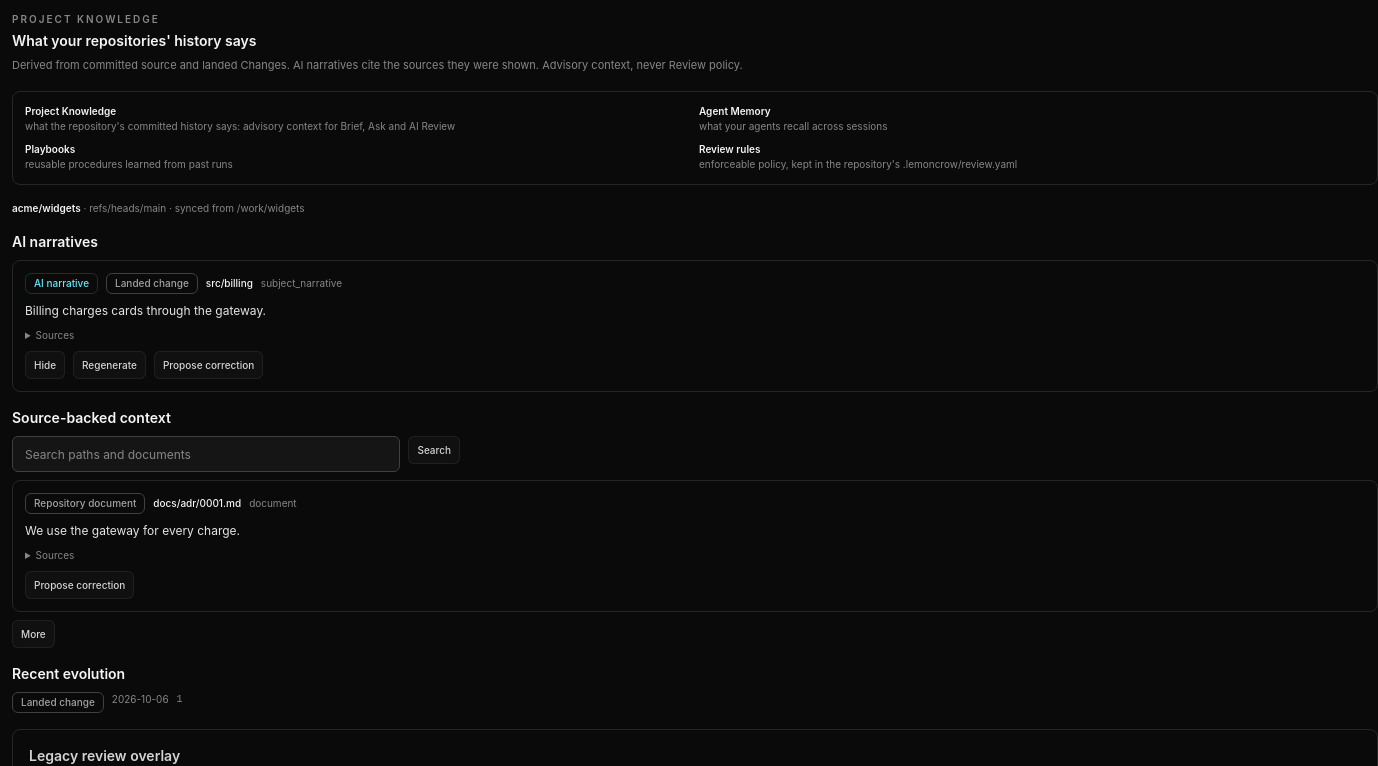
it: ProjectKnowledge › hides a narrative, refreshes, and offers a fresh one
Expected: the text "Billing charges cards through the gateway." is shown, [25,303,266,318]
Click the button "Hide": (45, 365) [25,351,65,379]
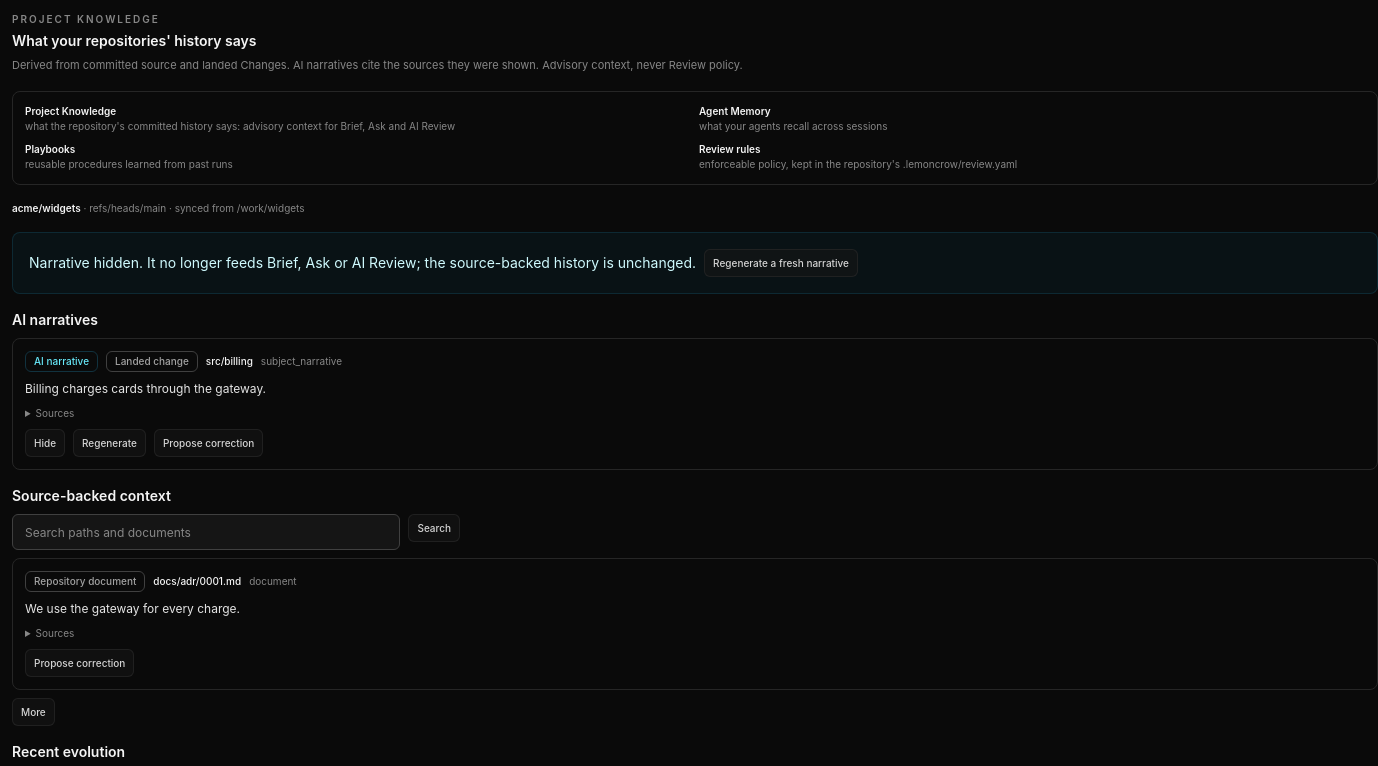
Now the message with test id "project-knowledge-notice" shows "no longer feeds Brief, Ask or AI Review", box [29,254,696,271]
Click the button "Regenerate a fresh narrative": (781, 263) [704,249,858,277]
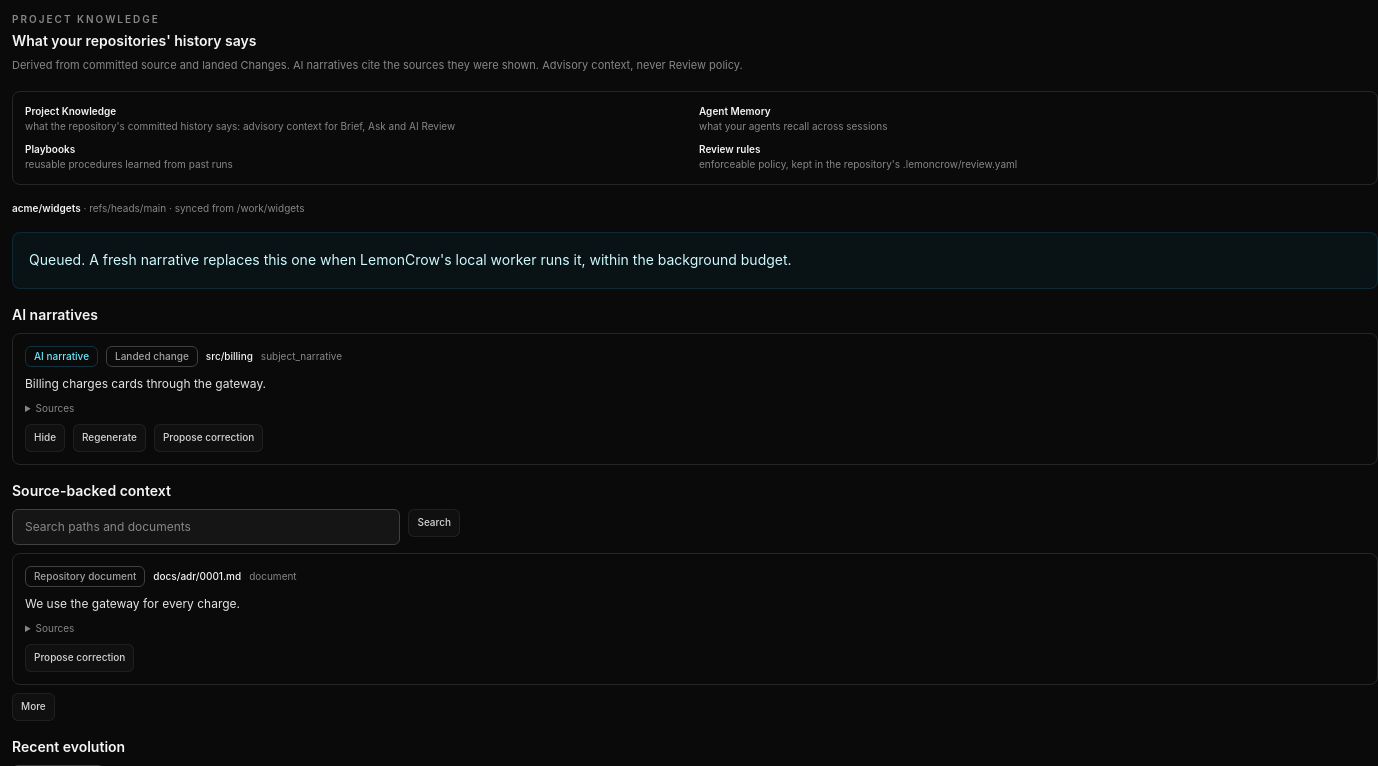
Now the message with test id "project-knowledge-notice" shows "Queued.", box [29,251,792,268]
Now the message with test id "project-knowledge-notice" shows "when LemonCrow's local worker runs it", box [29,251,792,268]
